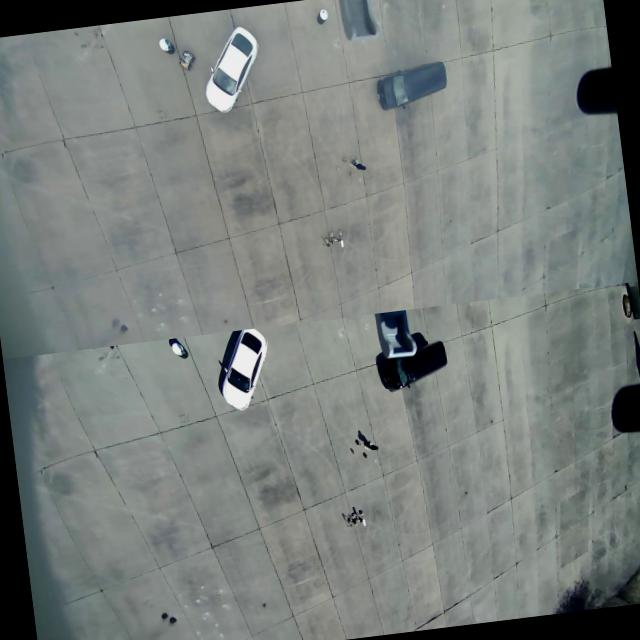car: (363, 54, 463, 124), (196, 23, 266, 115), (214, 326, 274, 412), (375, 338, 454, 395)
